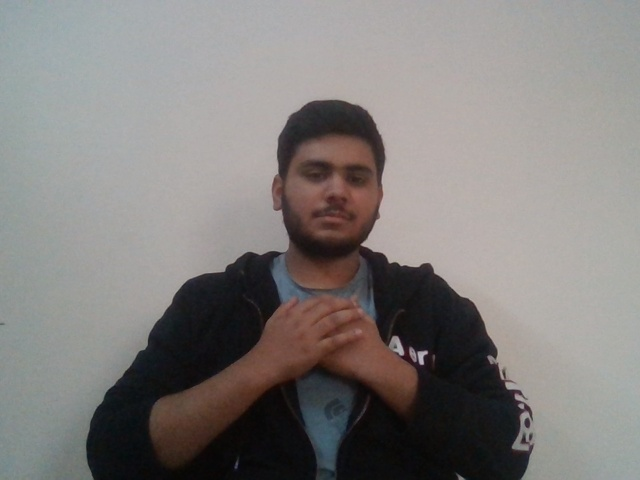Please: (241, 287, 390, 389)
